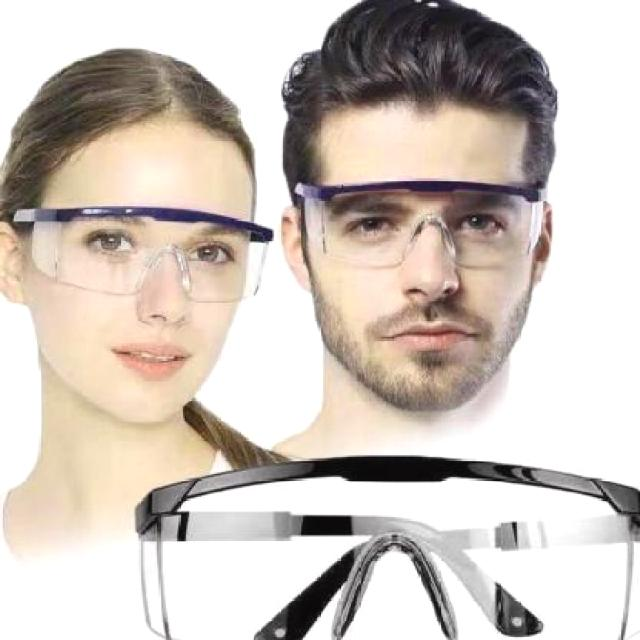face_nomask: (58, 206, 242, 397), (333, 198, 513, 377)
glasses: (8, 206, 274, 305), (296, 174, 552, 268)
head_nohelmet: (297, 7, 557, 136), (41, 44, 248, 158)
